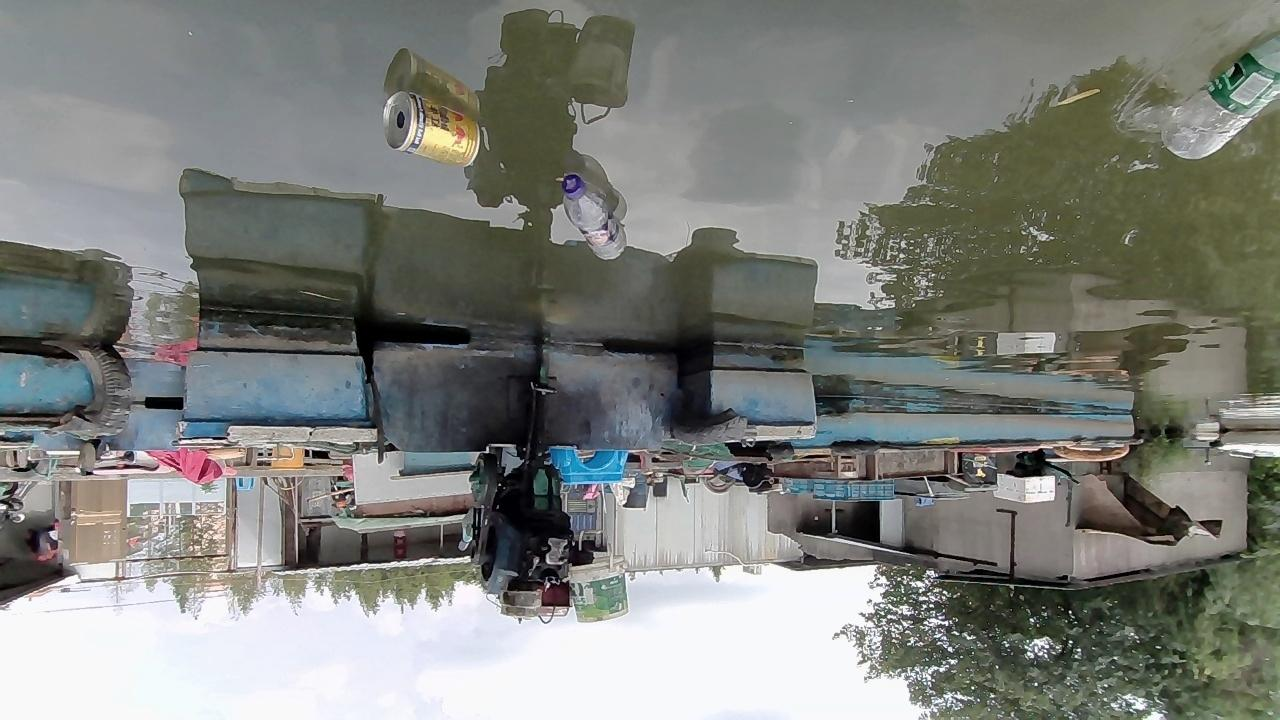Metal: (379, 89, 482, 169)
Plastic: (1159, 31, 1280, 161), (559, 172, 628, 262)
